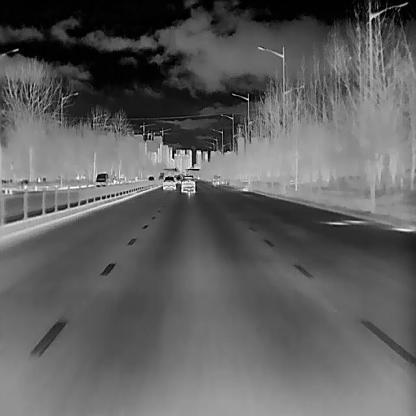car: (180, 174, 195, 192), (94, 171, 109, 187), (162, 174, 175, 189), (212, 174, 221, 185), (174, 174, 181, 183), (147, 175, 155, 180)
